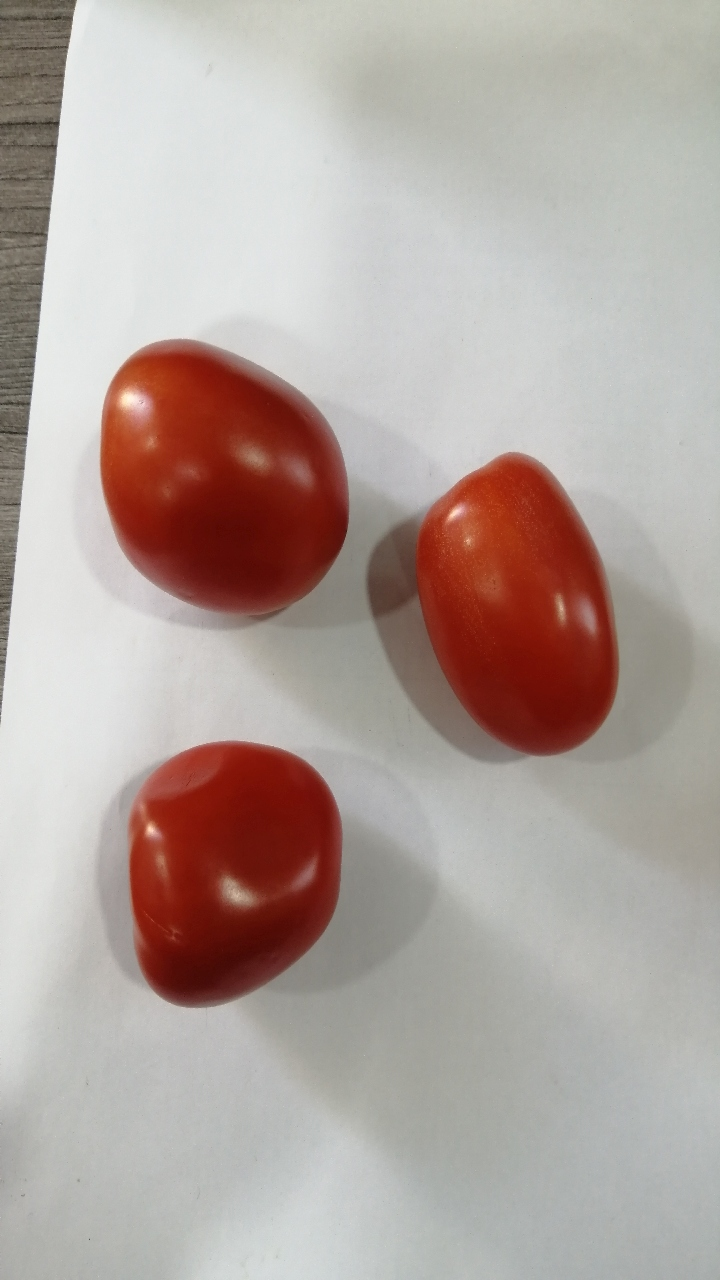tomateRojo: (80, 309, 360, 648), (391, 431, 634, 774), (109, 720, 352, 1019)
